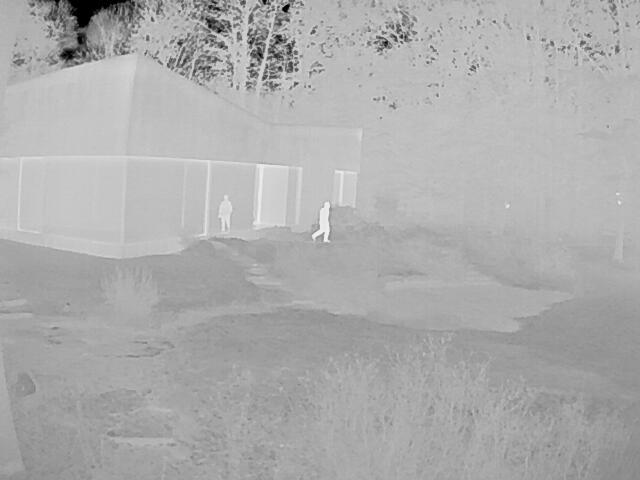person: (310, 200, 329, 243), (215, 193, 232, 232)
